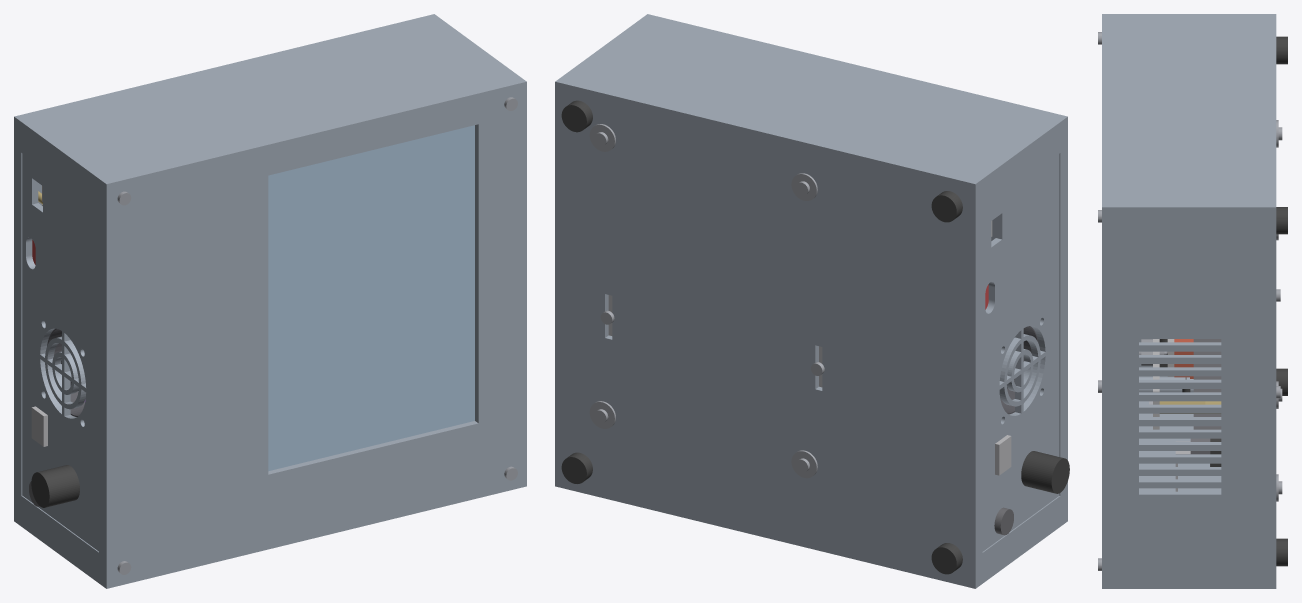
File: simple-first.glb
3 views of the same model, side by side, from view 1: azimuth 30°, elevation 25°; view 2: azimuth 150°, elevation 25°; view 3: azimuth 270°, elevation 25° (orthographic). The views are drawn at different scales.
Visible parts, largest first — view 1: 89_lid frame, 91_acrylic 110x146x3, 0_base tub, 5_W I/O panel, 8_fuse holder; view 2: 0_base tub, 5_W I/O panel, 89_lid frame, 8_fuse holder, 1_rubber foot, 3_rubber foot, 4_rubber foot, 2_rubber foot; view 3: 0_base tub, 89_lid frame, 41_P2 Dupont envelope, 1_rubber foot, 4_rubber foot, 2_rubber foot, 78_HS10 resistor, 3_rubber foot.
Boxes of the visible parts, x1,y1,x2,y2 form: 89_lid frame: [99, 76, 526, 588]; 91_acrylic 110x146x3: [268, 125, 474, 471]; 0_base tub: [14, 14, 518, 582]; 5_W I/O panel: [22, 153, 98, 551]; 8_fuse holder: [31, 465, 79, 507]; 0_base tub: [555, 19, 1060, 588]; 5_W I/O panel: [982, 154, 1059, 551]; 89_lid frame: [640, 14, 1067, 526]; 8_fuse holder: [1021, 451, 1069, 493]; 1_rubber foot: [931, 191, 962, 222]; 3_rubber foot: [931, 543, 962, 574]; 4_rubber foot: [561, 452, 592, 483]; 2_rubber foot: [561, 100, 592, 132]; 0_base tub: [1116, 14, 1276, 588]; 89_lid frame: [1102, 14, 1116, 588]; 41_P2 Dupont envelope: [1193, 339, 1221, 429]; 1_rubber foot: [1276, 36, 1287, 64]; 4_rubber foot: [1276, 538, 1287, 566]; 2_rubber foot: [1276, 207, 1287, 234]; 78_HS10 resistor: [1174, 339, 1193, 378]; 3_rubber foot: [1276, 368, 1287, 395].
Bounding box in the file's own units: 214 × 192 × 82.9.
